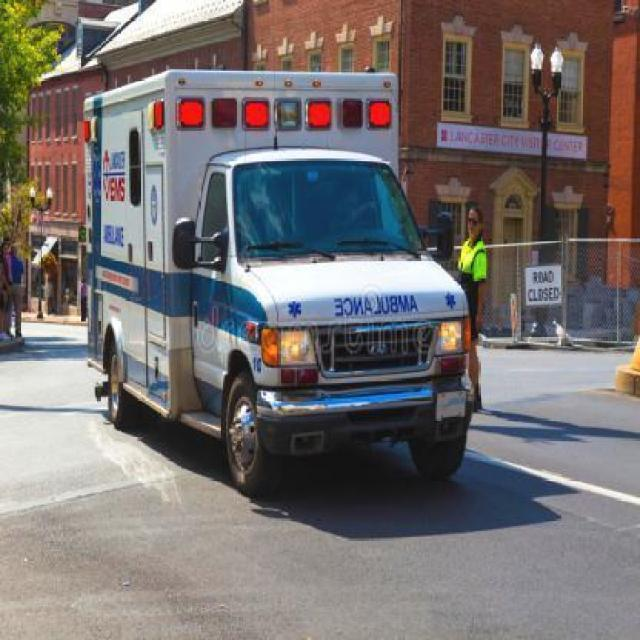emergency: (79, 66, 478, 496)
